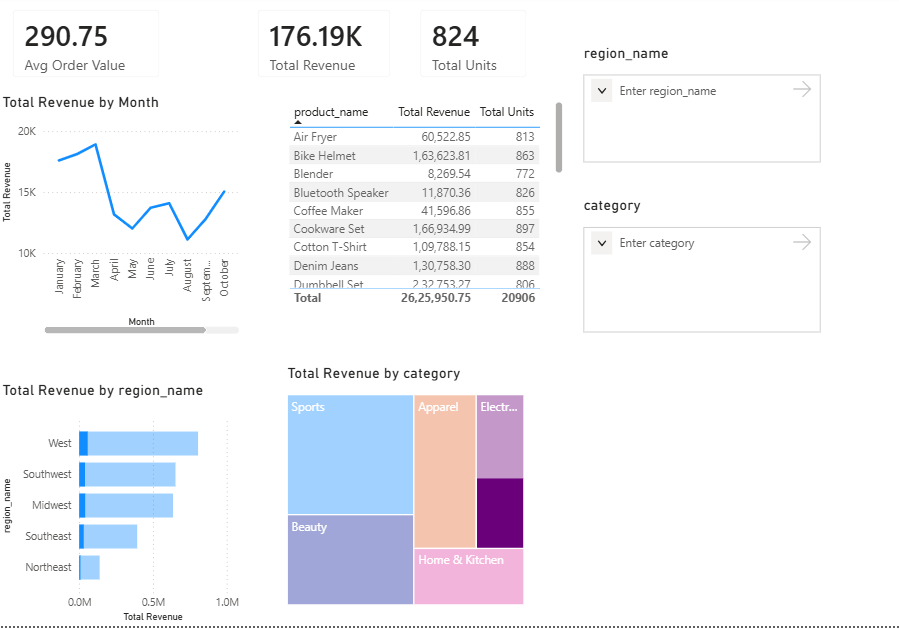

Layout of this report page (visuals, bound fields, positions):
{"tool":"powerbi","page":{"name":"Page 1","canvas":[1280,720],"ordinal":0},"visuals":[{"type":"lineChart","fields":{"Category":["sales_flat_export.sale_date.Variation.Date Hierarchy.Month"],"Y":["sales_flat_export.Total Revenue"]},"box":[0,111.1,280,280],"z":0},{"type":"clusteredBarChart","fields":{"Category":["sales_flat_export.region_name"],"Y":["sales_flat_export.Total Revenue"]},"box":[0,440.5,280,280],"z":3002},{"type":"treemap","fields":{"Group":["sales_flat_export.category"],"Values":["sales_flat_export.Total Revenue"]},"box":[325,420.5,280,280],"z":3003},{"type":"tableEx","fields":{"Values":["sales_flat_export.product_name","sales_flat_export.Total Revenue","sales_flat_export.Total Units"]},"box":[326.6,116.6,322.5,242.9],"z":3004},{"type":"cardVisual","fields":{"Data":["sales_flat_export.Total Revenue"]},"box":[279.9,0,185.2,111.1],"z":3005},{"type":"cardVisual","fields":{"Data":["sales_flat_export.Total Units"]},"box":[465.2,0,155.1,111.1],"z":3006},{"type":"cardVisual","fields":{"Data":["sales_flat_export.Avg Order Value"]},"box":[0,0,201.7,111.1],"z":3007},{"type":"textSlicer","fields":{"Values":["sales_flat_export.region_name"]},"box":[662.8,55.6,279.9,140],"z":3008},{"type":"textSlicer","fields":{"Values":["sales_flat_export.category"]},"box":[662.8,229.5,279.9,160.5],"z":3009}]}

Visuals, with their boxes on the page's 1280x720 design canvas (x1, y1, x2, y2). These are canvas units, not pixel positions in the 899x629 screenshot, which may show the page scaled, cropped or inside an application window:
lineChart - sales_flat_export.sale_date.Variation.Date Hierarchy.Month x sales_flat_export.Total Revenue: [0, 111, 280, 391]
clusteredBarChart - sales_flat_export.region_name x sales_flat_export.Total Revenue: [0, 440, 280, 720]
treemap - sales_flat_export.category x sales_flat_export.Total Revenue: [325, 420, 605, 700]
tableEx - sales_flat_export.product_name x sales_flat_export.Total Revenue: [327, 117, 649, 360]
cardVisual - sales_flat_export.Total Revenue: [280, 0, 465, 111]
cardVisual - sales_flat_export.Total Units: [465, 0, 620, 111]
cardVisual - sales_flat_export.Avg Order Value: [0, 0, 202, 111]
textSlicer - sales_flat_export.region_name: [663, 56, 943, 196]
textSlicer - sales_flat_export.category: [663, 230, 943, 390]
